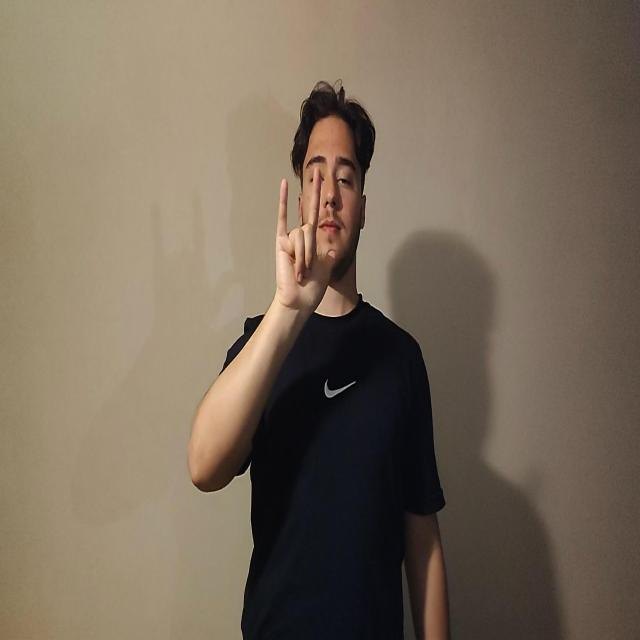iloveyou: (274, 167, 335, 315)
